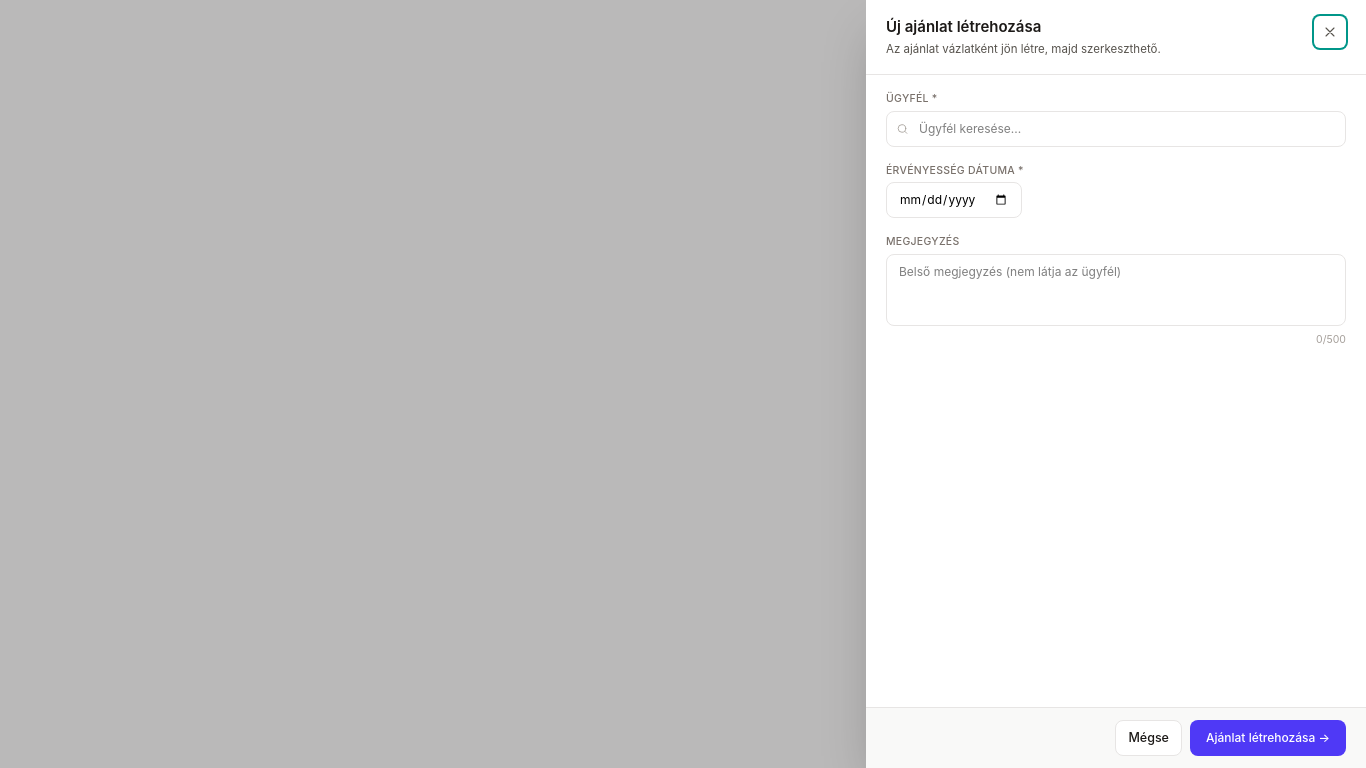
CreateQuoteSlideOver › shows validation error when submitting without customer
Click the button "Ajánlat létrehozása →": (1268, 738) [1190,720,1346,756]
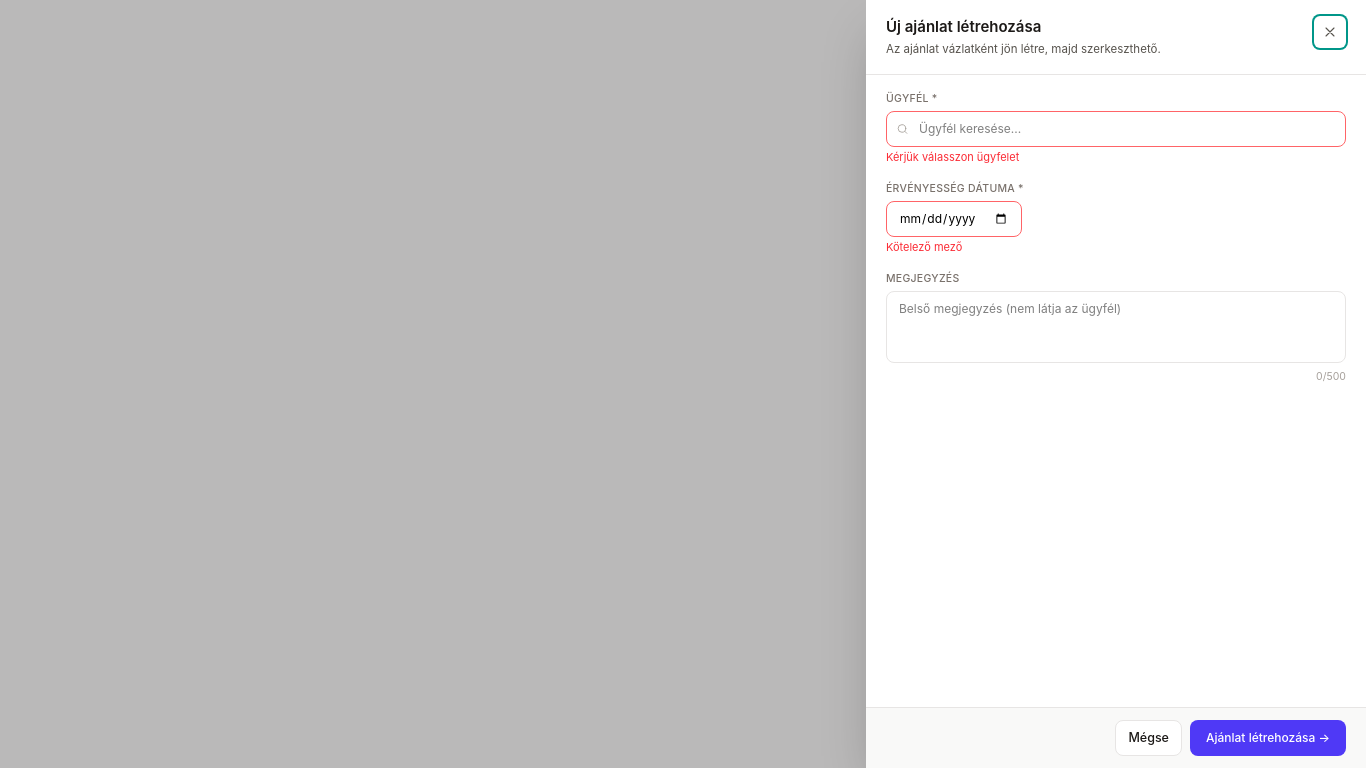
Expected: the text "Kérjük válasszon ügyfelet" is shown, [886,150,1019,164]
